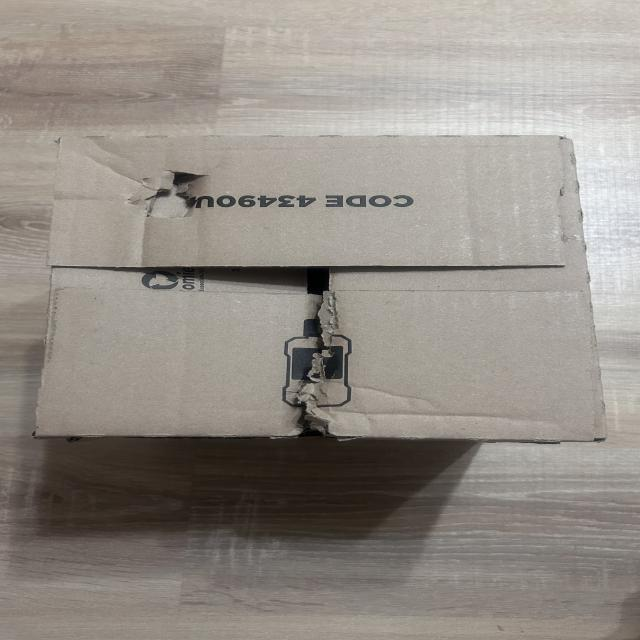damaged: (37, 128, 617, 446), (257, 262, 381, 440), (127, 157, 219, 222)
